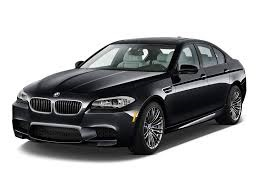bmw: (10, 27, 257, 157)
